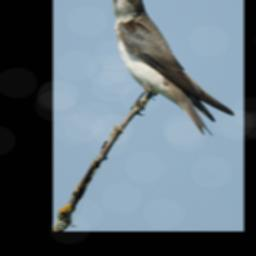Swallow: (108, 0, 235, 136)
